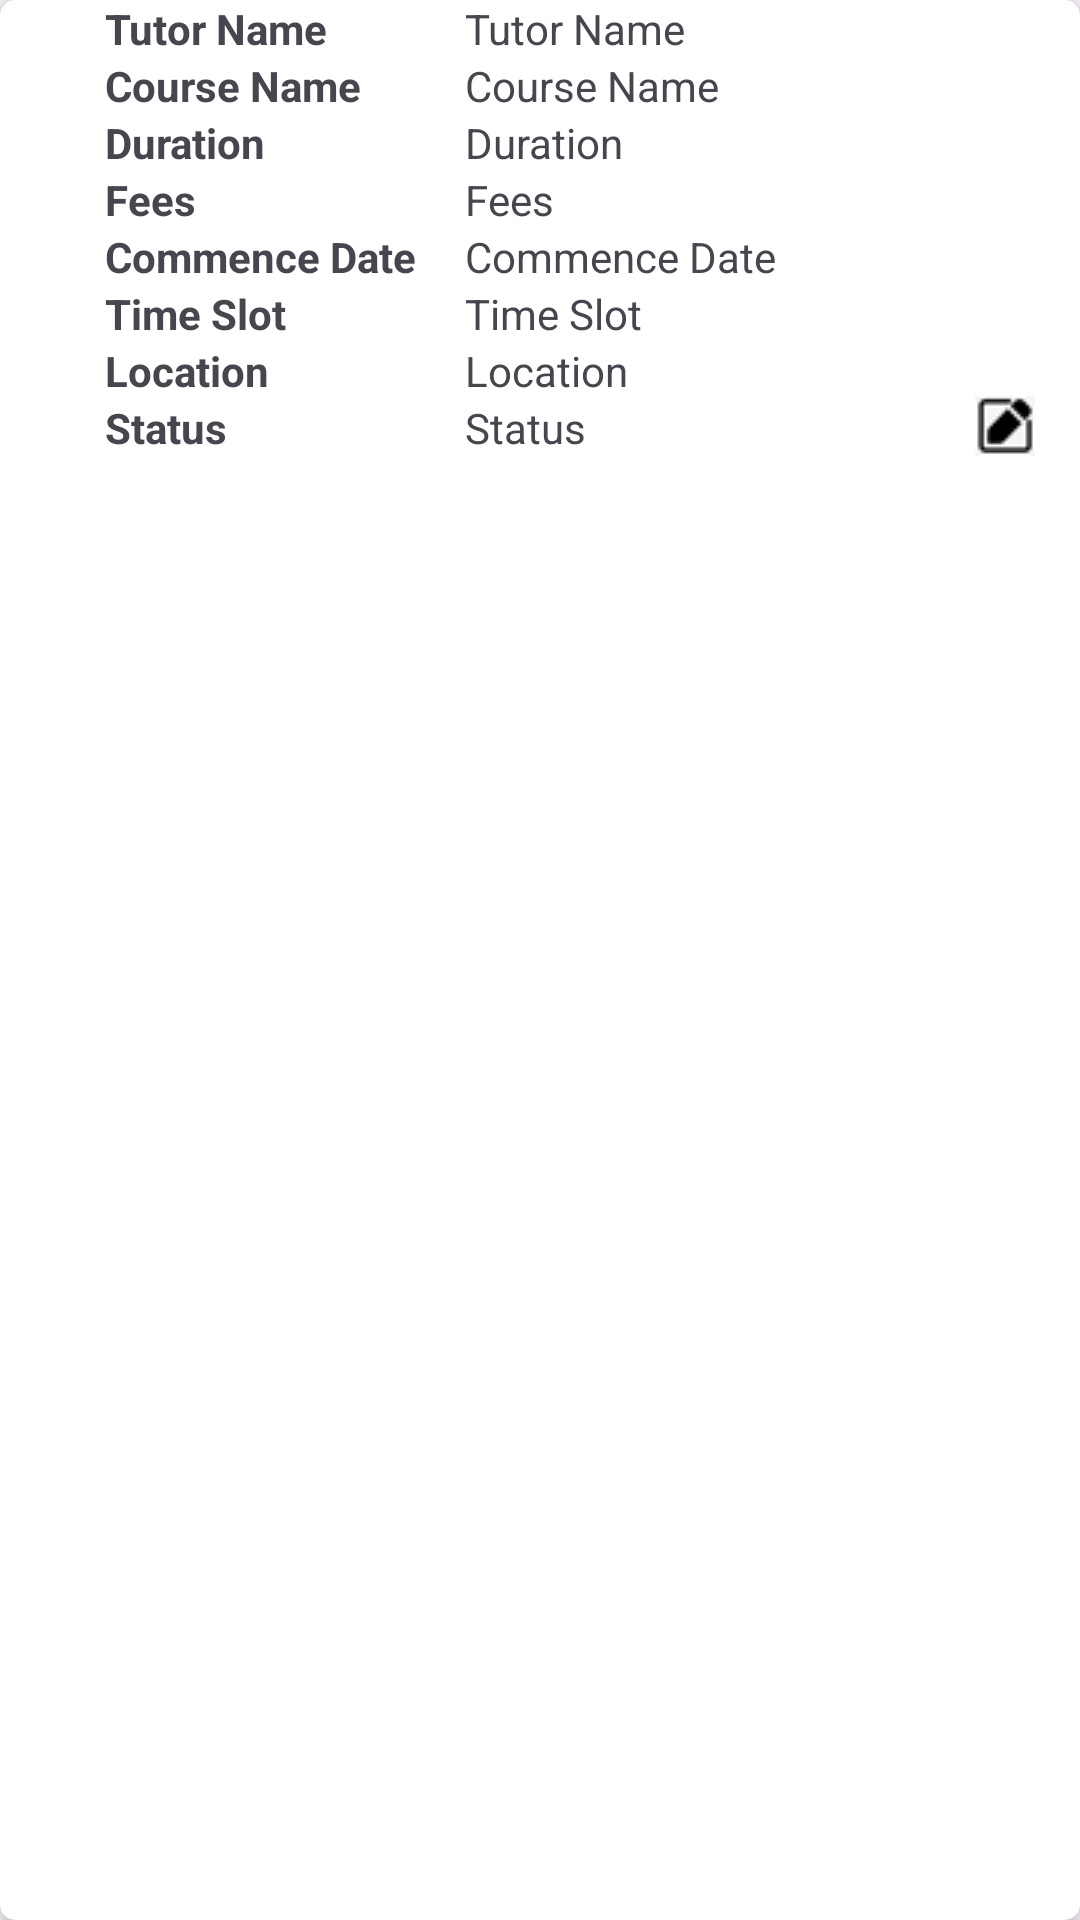

Icon bounding boxes for this 1080*1920 phone screenshot, format BBox(x1, y1, x2, y2):
edit: BBox(977, 398, 1033, 454)
